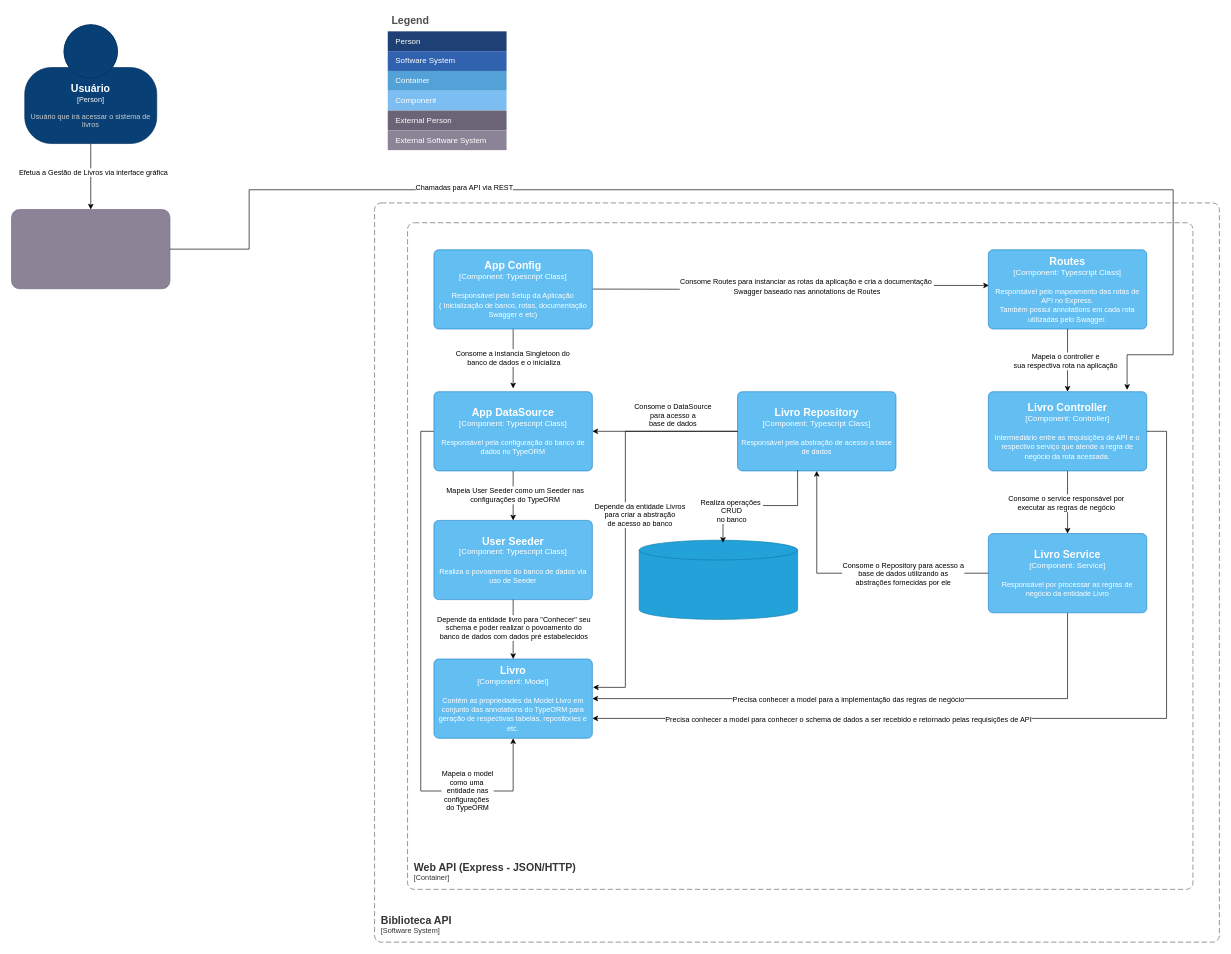
The diagram is 1231 pixels wide and 954 high, and some of its shapes have lost their labels. The centre of each missing label's shape, as x and y in pixels:
"Banco de Dados [Container: PostgreSQL] Armazena os dados da entidade livros" belongs at point (718, 579).
"Biblioteca APP [Software System] Aplicativo de gestão de livros" belongs at point (90, 249).
